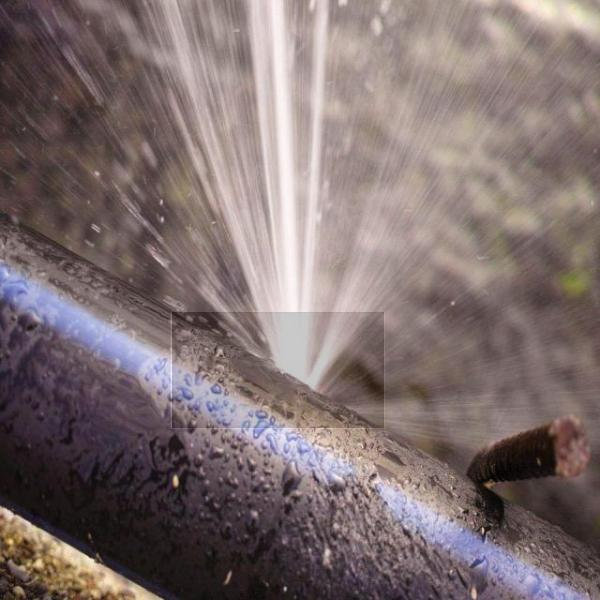water: (172, 312, 384, 428)
